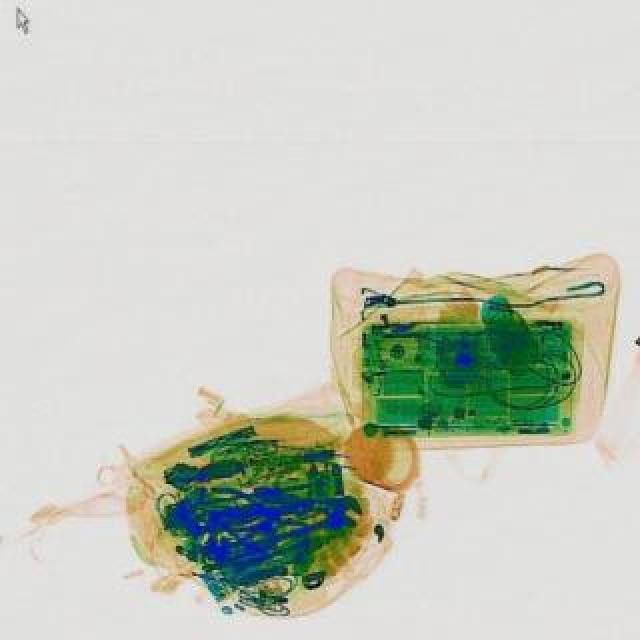scissors: (250, 470, 368, 534)
wrench: (208, 482, 302, 544)
